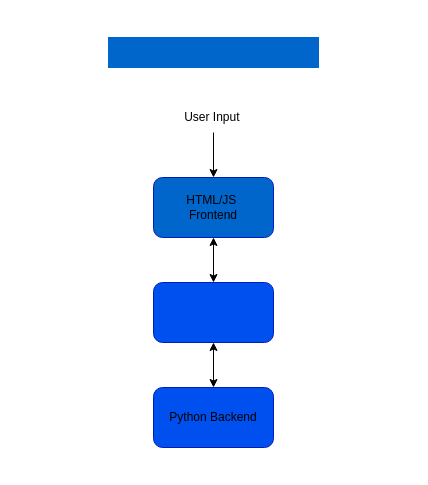
Some shapes in this 428 by 485 pixel diagram are drawn without their labels. The shapes that lost their labels are listed below. From the top down, each one's centre as x and y in pixels, then its label:
At [213,52]: "High Level System View".
At [213,312]: "FastAPI".
